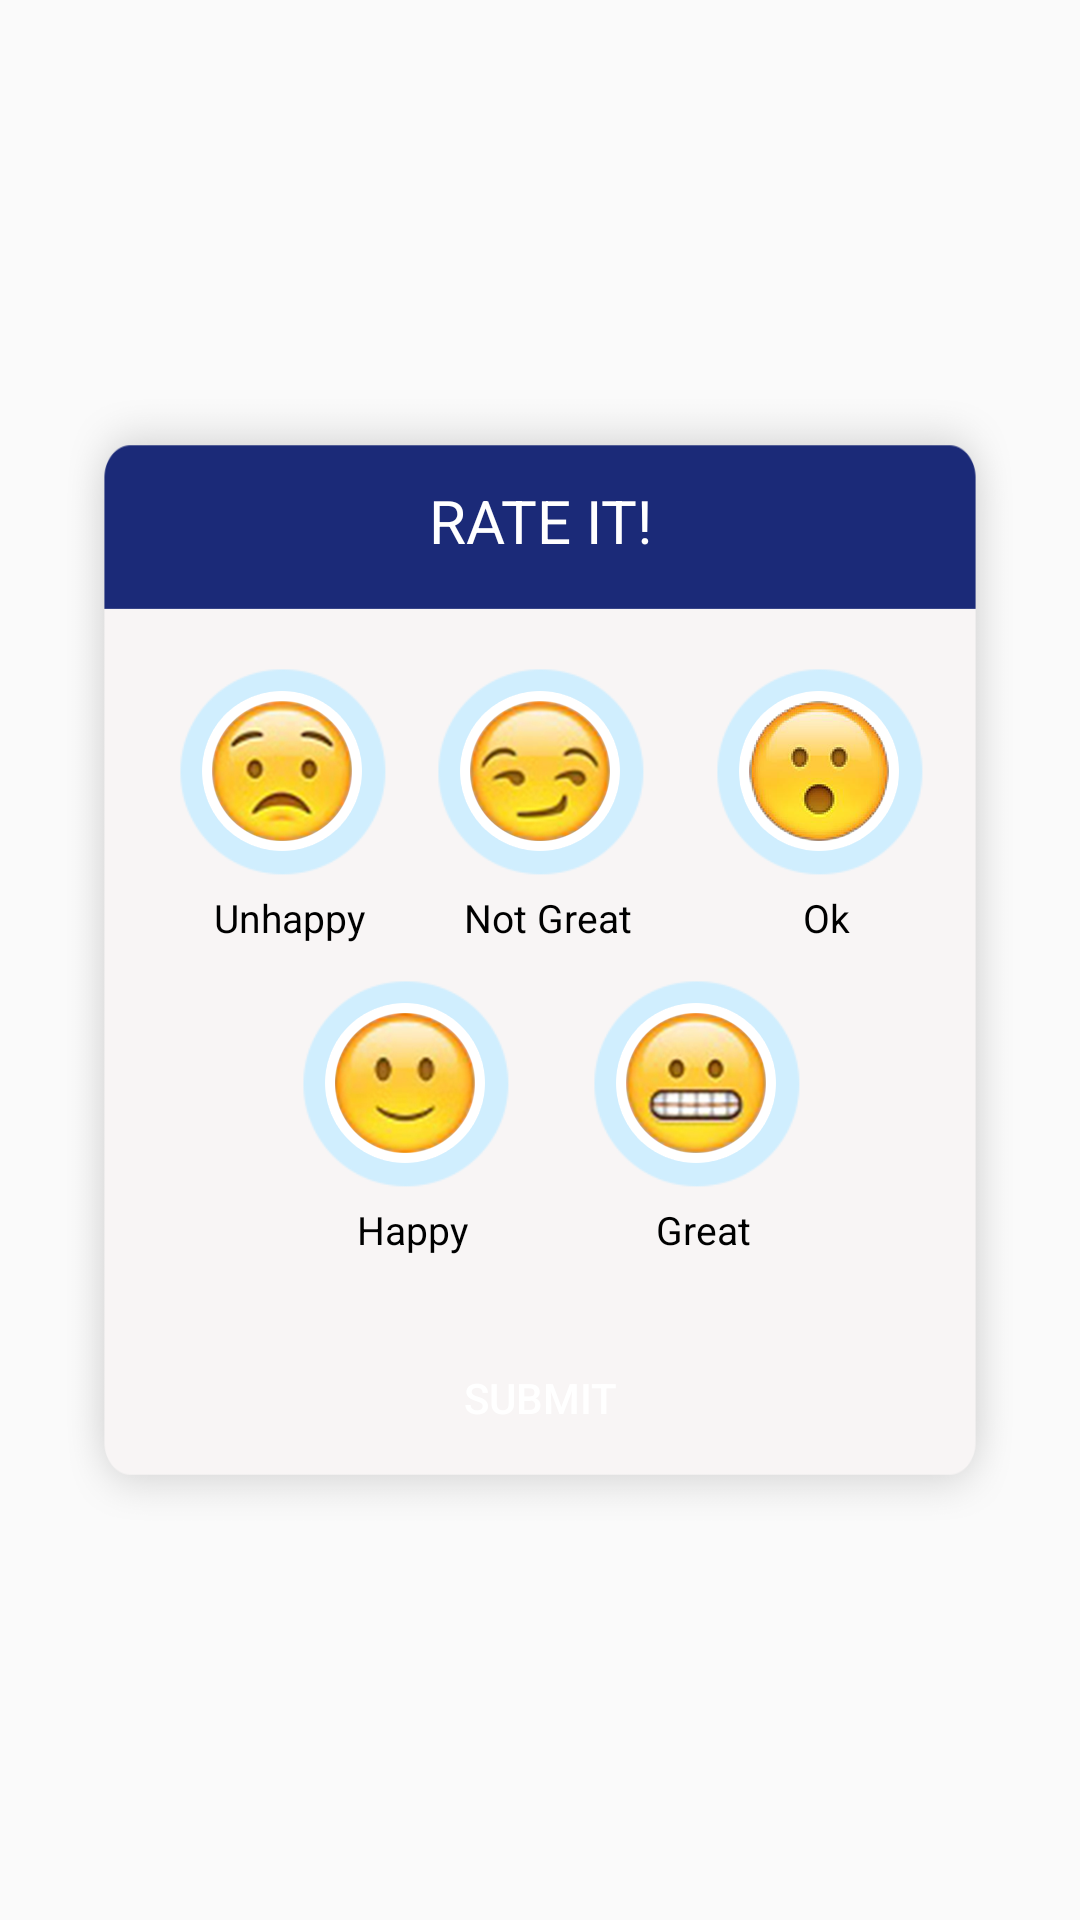

Named icons in this screenshot (1080*1920) and their centers, [x,y]:
emoji: [282,771], [540,771], [819,771], [405,1083], [696,1083]
